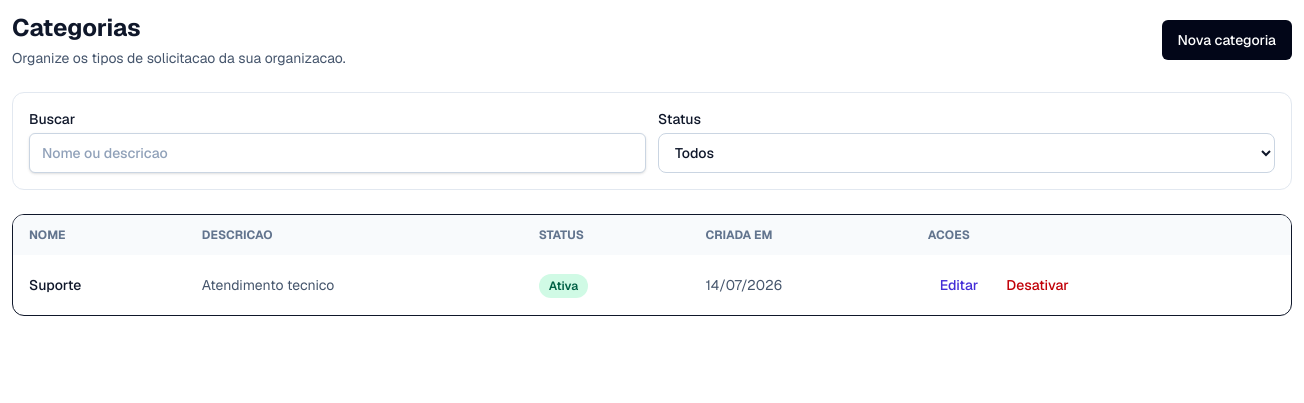
Test: gerenciamento de categorias › desativa sem exclusao fisica e com confirmacao
The width and height of the screenshot is (1304, 403).
Expected: the text "Suporte" is shown, [13, 255, 186, 315]
Click the button "Desativar": (1038, 285) [994, 267, 1081, 303]
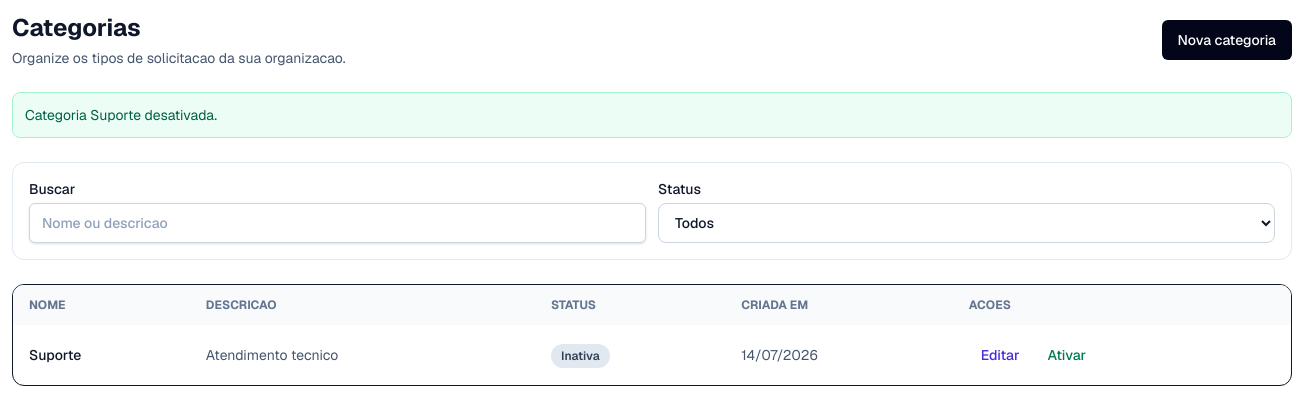
Expected: the text "Categoria Suporte desativada." is shown, [12, 92, 1292, 138]
Expected: the text "Inativa" is shown, [551, 344, 610, 368]
